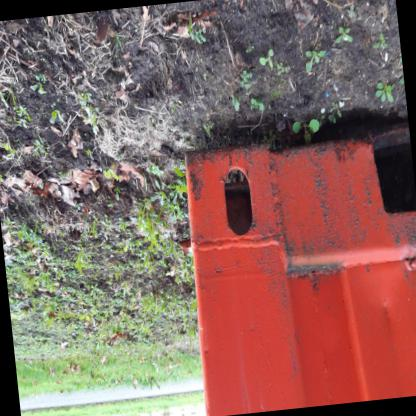CornerCasting: (177, 136, 292, 265)
